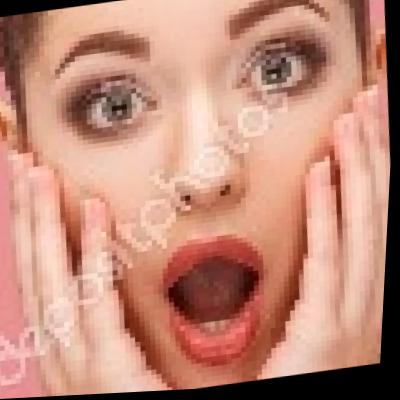surprise: (9, 0, 383, 399)
